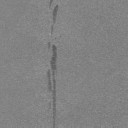red iron: (47, 42, 57, 128), (52, 4, 58, 23), (49, 0, 53, 6)
